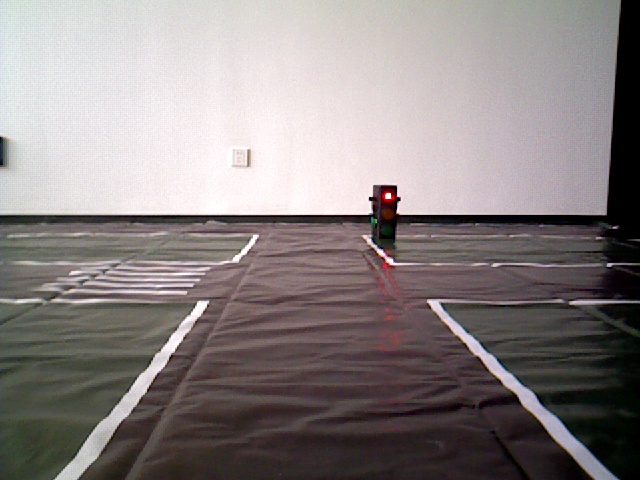red: (373, 186, 397, 241)
